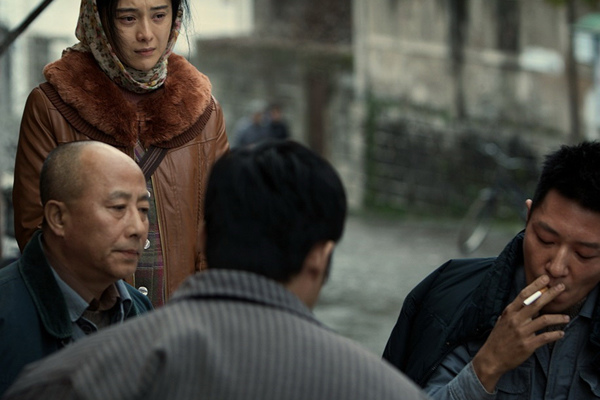cigarette: (516, 279, 553, 304)
